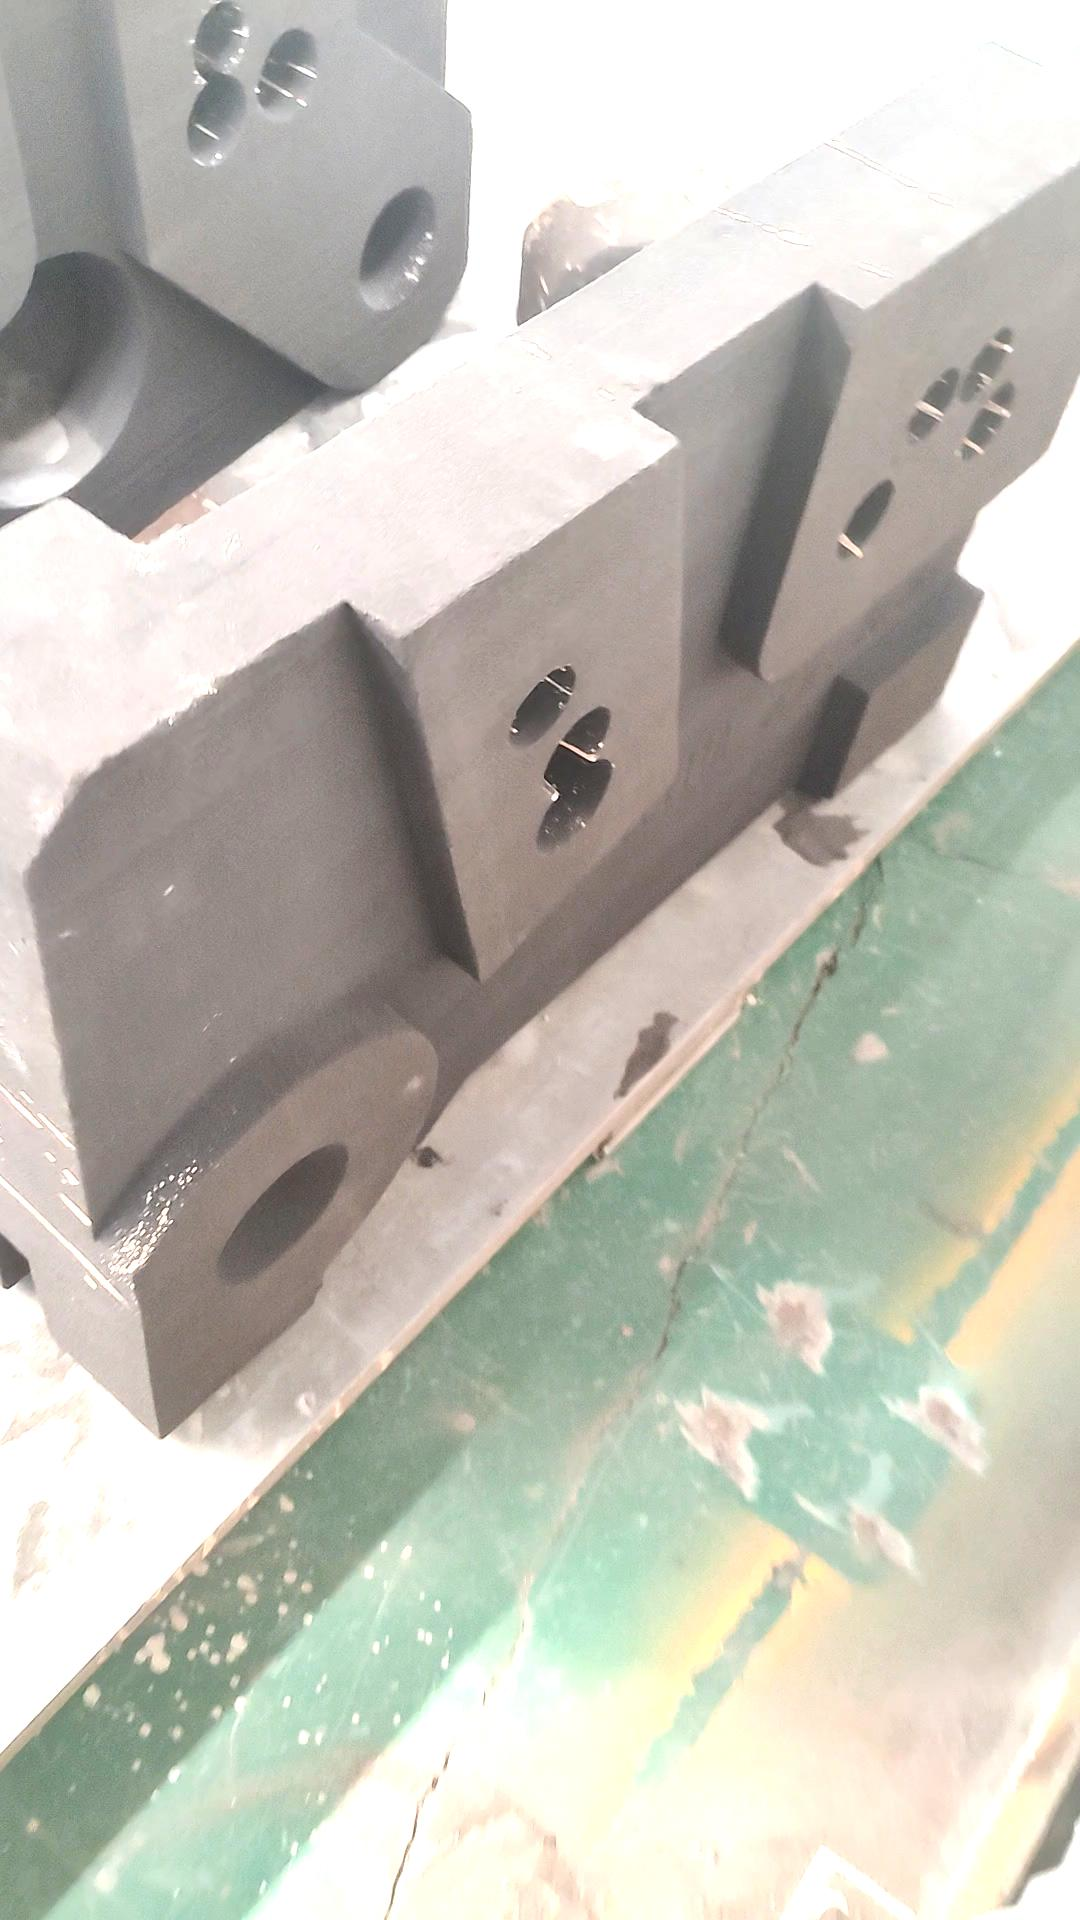pouring hole: (208, 1138, 353, 1287), (352, 181, 442, 315)
